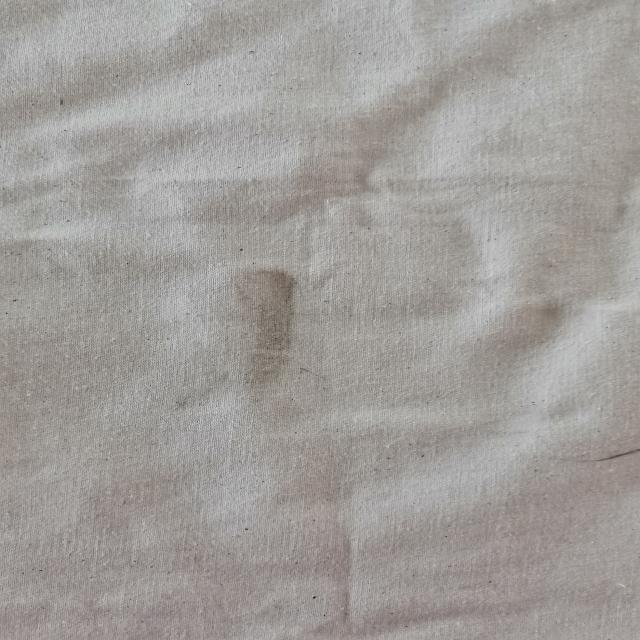taaaches: (228, 268, 298, 411), (548, 444, 640, 466), (162, 386, 223, 415), (303, 366, 333, 382)
